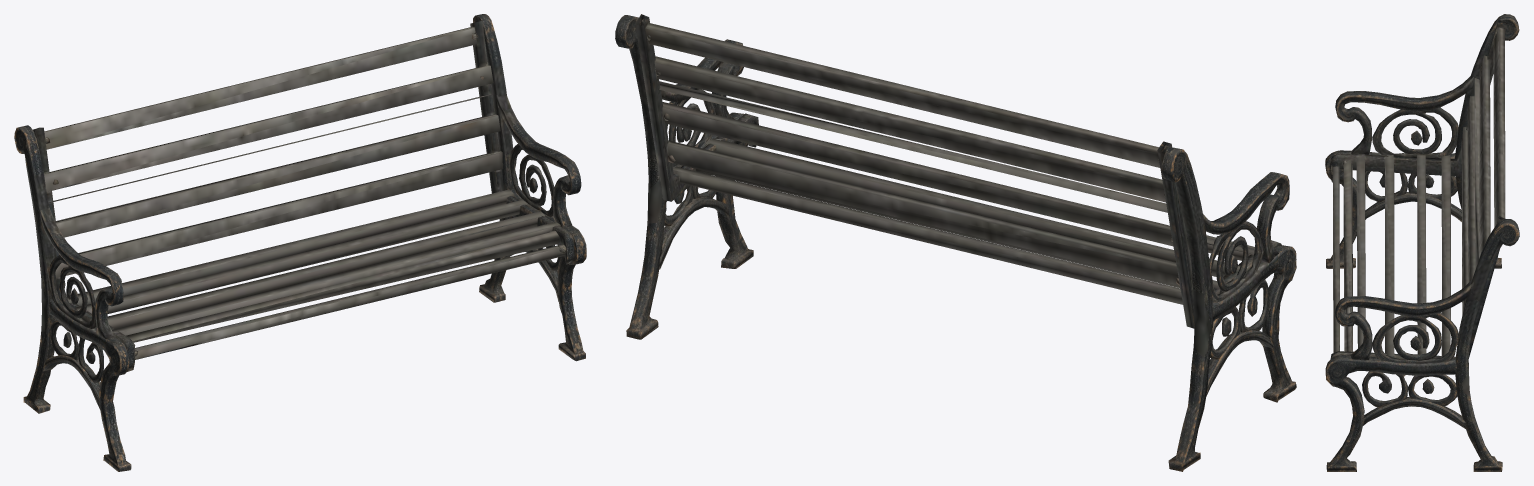
The model's file is harbour_bench.glb.
3 views of the same model, side by side, from view 1: azimuth 30°, elevation 25°; view 2: azimuth 150°, elevation 25°; view 3: azimuth 270°, elevation 25° (orthographic). The views are drawn at different scales.
Parts seen in each view (by area): view 1: Mesh_0; view 2: Mesh_0; view 3: Mesh_0.
Part boxes in pixels (box(x1,y1,x2,y2)): Mesh_0: box(14, 14, 586, 471); Mesh_0: box(615, 14, 1296, 471); Mesh_0: box(1325, 14, 1519, 471).
Bounding box in the file's own units: 1.8 × 1 × 0.7102.
1 material, 1 textured.
